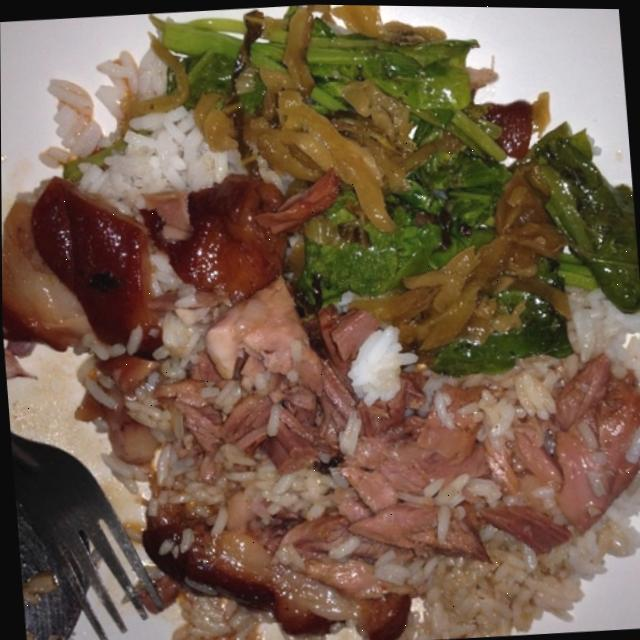猪肉菜式: (0, 20, 640, 640)
